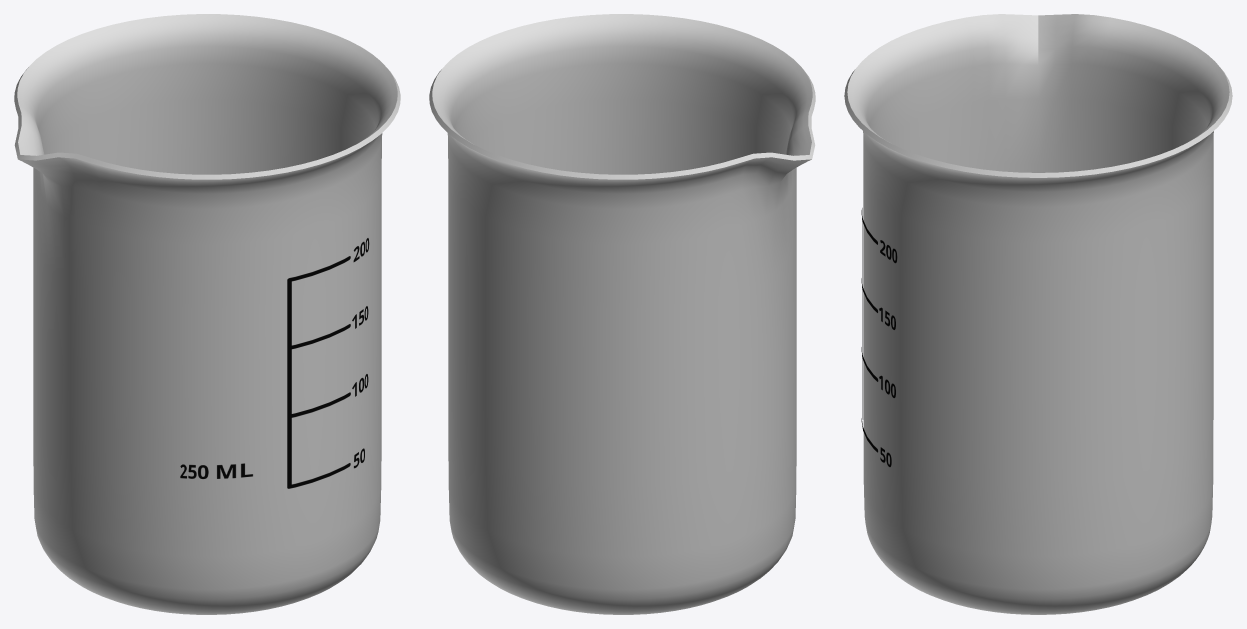
The model's file is Beaker.glb.
3 views of the same model, side by side, from view 1: azimuth 30°, elevation 25°; view 2: azimuth 150°, elevation 25°; view 3: azimuth 270°, elevation 25° (orthographic).
Parts seen in each view (by area): view 1: Circle, measuring_scale; view 2: Circle; view 3: Circle, measuring_scale.
Part boxes in pixels (box(x1,y1,x2,y2)): Circle: box(14, 14, 400, 614); measuring_scale: box(180, 238, 369, 488); Circle: box(429, 14, 815, 614); Circle: box(844, 14, 1232, 614); measuring_scale: box(861, 208, 897, 466).
Bounding box in the file's own units: 0.1478 × 0.1834 × 0.1386.
Materials: 2 (1 with a texture image).
